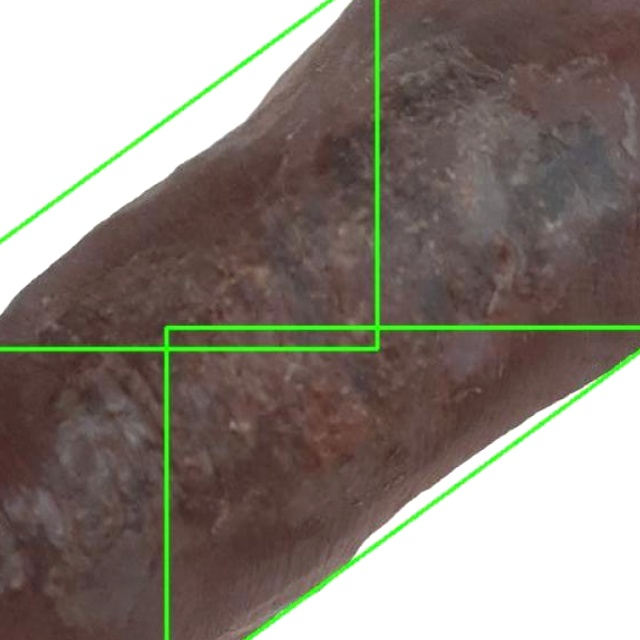Contact Dermatitis: (0, 0, 639, 639), (165, 328, 639, 639), (0, 0, 377, 348)
